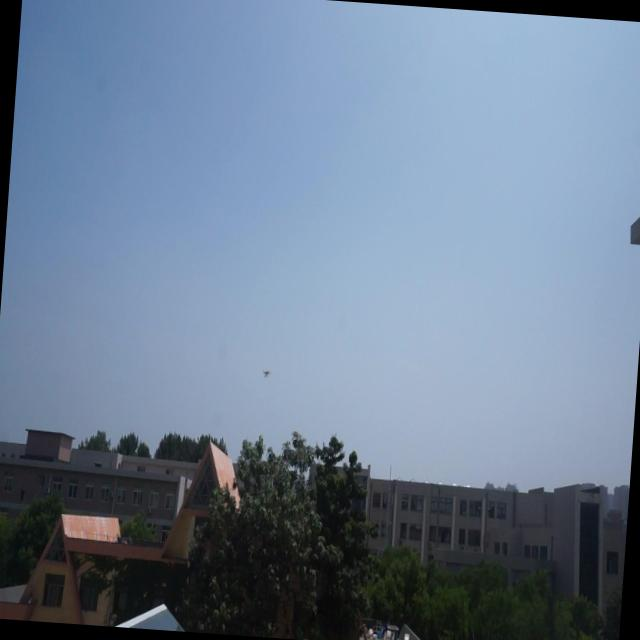drone: (261, 359, 273, 384)
